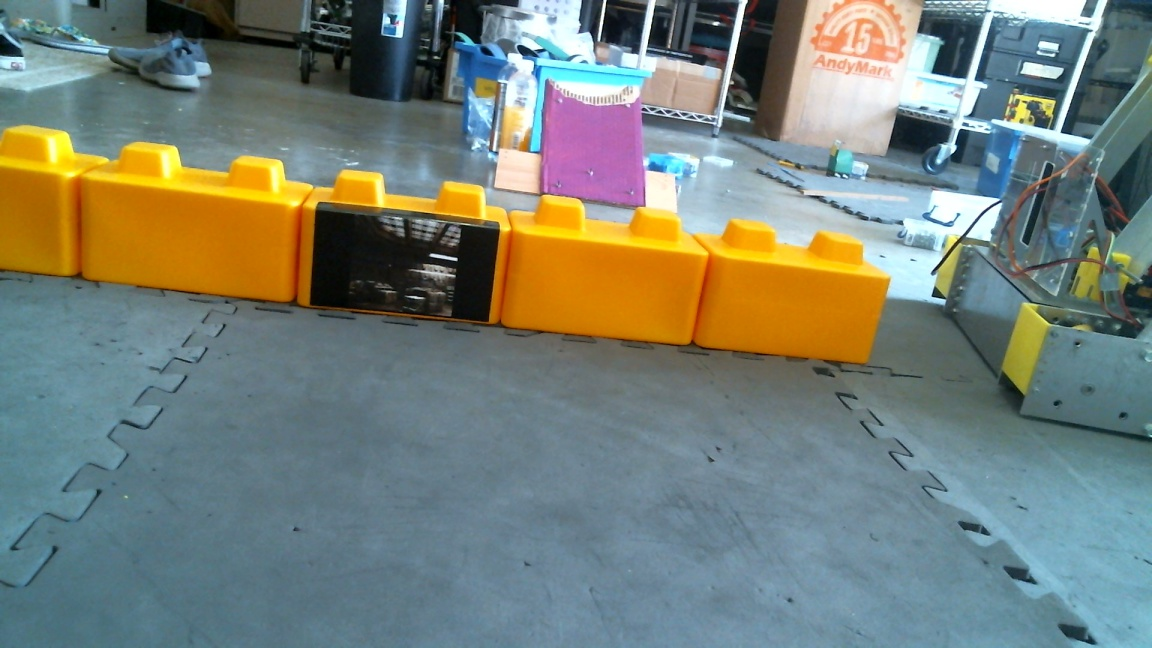center: (78, 142, 702, 348)
left: (313, 166, 883, 374)
